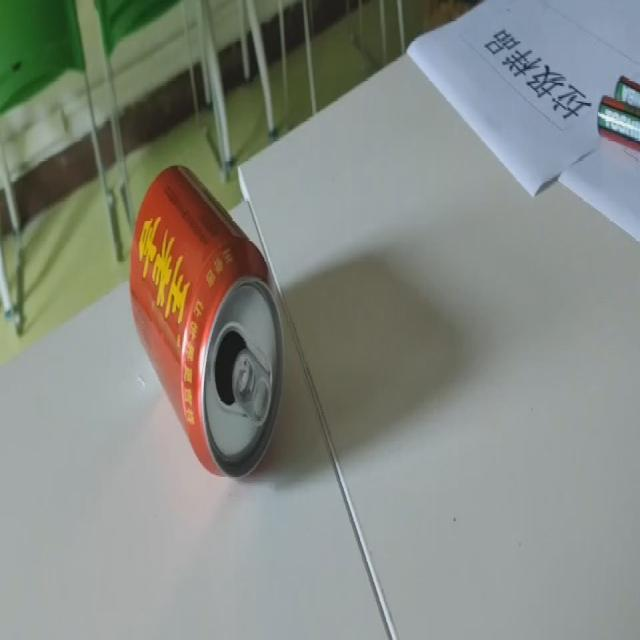can: (130, 165, 285, 479)
